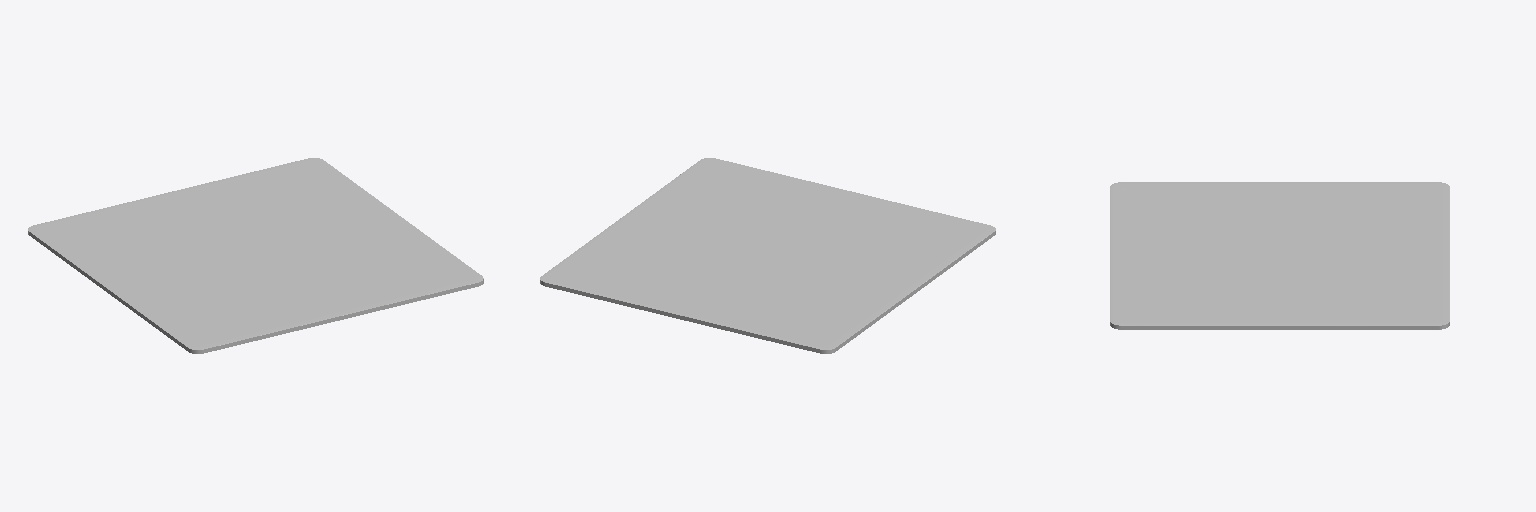
Rendered from CrackedTile5x5.obj.
3 views of the same model, side by side, from view 1: azimuth 30°, elevation 25°; view 2: azimuth 150°, elevation 25°; view 3: azimuth 270°, elevation 25° (orthographic).
Parts seen in each view (by area): view 1: Cube; view 2: Cube; view 3: Cube.
Boxes of the visible parts, x1,y1,x2,y2 form: Cube: [28, 158, 483, 353]; Cube: [540, 158, 995, 353]; Cube: [1110, 182, 1449, 329].
Size of the model in its own units: 10 by 0.14 by 10.